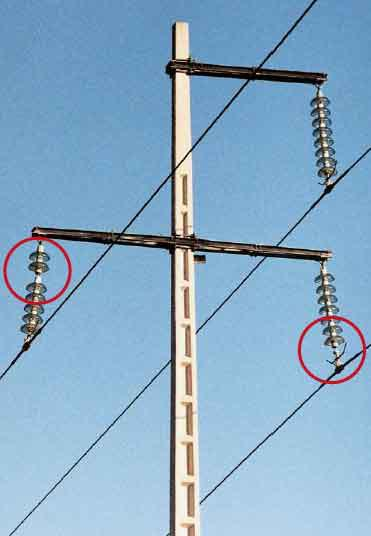isolator: (18, 251, 54, 333), (309, 95, 339, 179), (314, 273, 345, 347)
